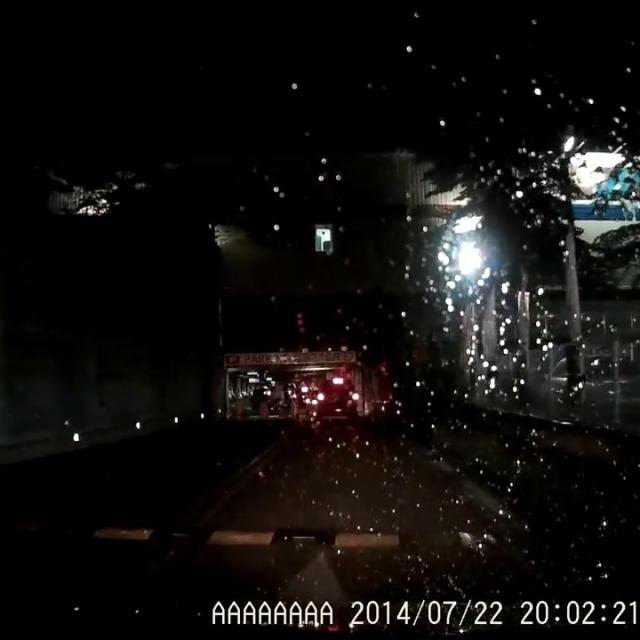Car: (310, 374, 358, 417)
